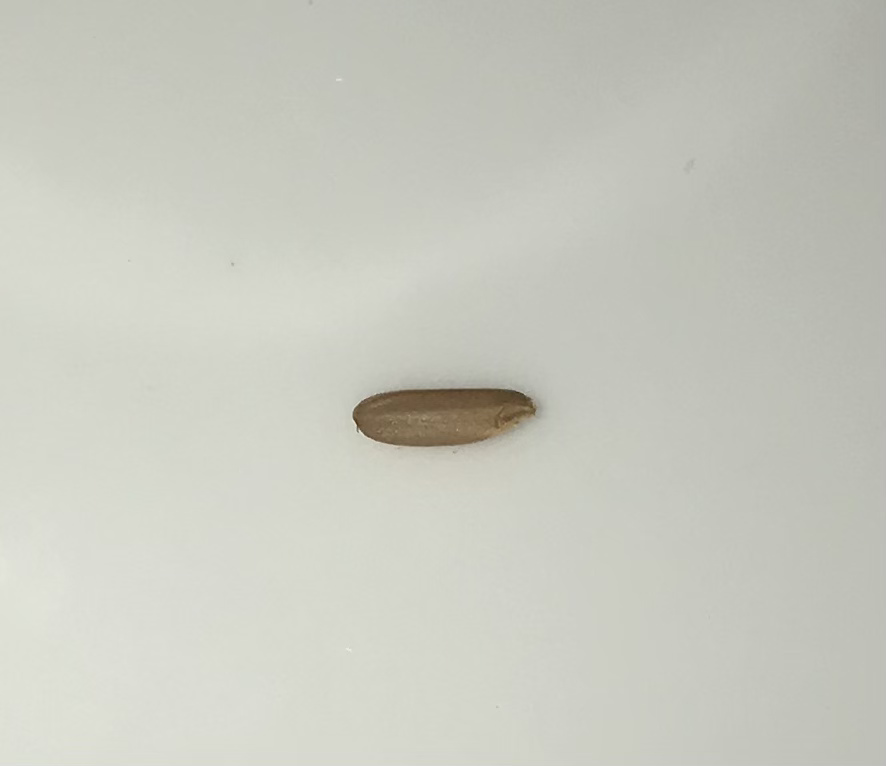Gao Lut Dien Bien: (345, 378, 537, 450)
